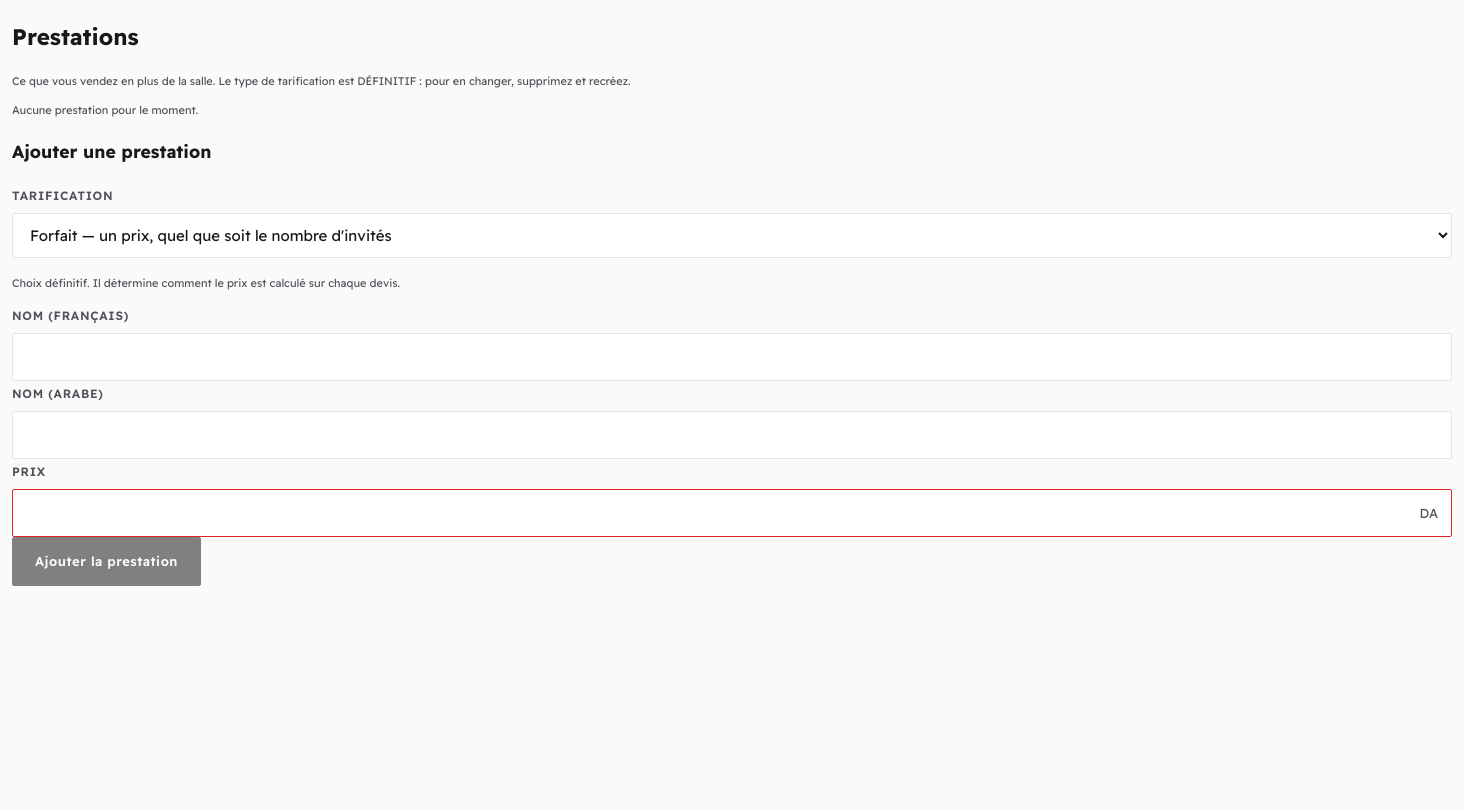
Test: Catalogue pro — l'avertissement qui évite l'erreur la plus chère › PER_GUEST affiche que le montant sera MULTIPLIÉ par les invités
Expected: the text "Aucune prestation pour le moment." is shown, [12,103,198,117]
Select "Par invité — multiplié par le nombre d'invités" in the dropdown labelled "Tarification" at (732, 235), box [12,213,1452,258]
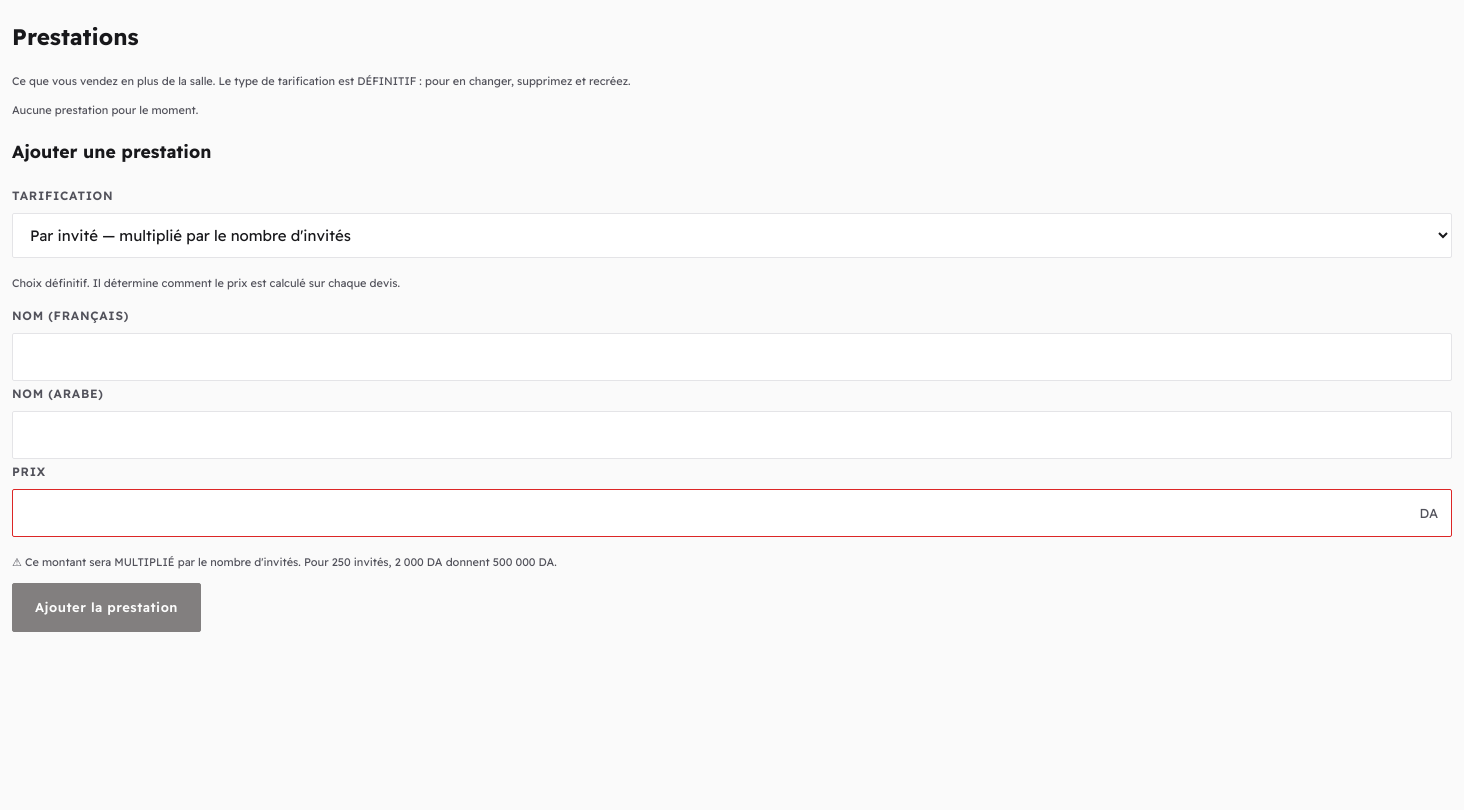
Now the text "MULTIPLIÉ par le nombre d'invités" is shown, box [12,555,557,569]
